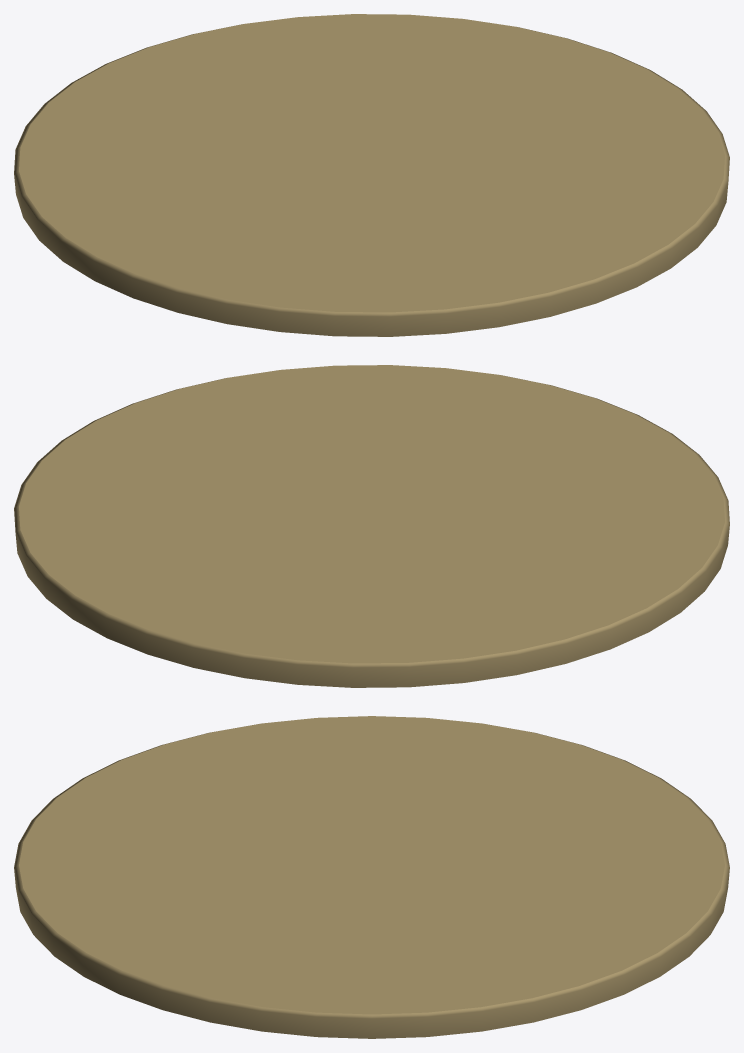
Rendered from G_Metal_07.fbx.
The picture shows the model from 3 angles, top to bottom: view 1: azimuth 30°, elevation 25°; view 2: azimuth 150°, elevation 25°; view 3: azimuth 270°, elevation 25°; orthographic projection.
Parts seen in each view (by area): view 1: G_Metal_07; view 2: G_Metal_07; view 3: G_Metal_07.
Boxes of the visible parts, x1,y1,x2,y2 form: G_Metal_07: (14, 14, 729, 336); G_Metal_07: (14, 365, 729, 687); G_Metal_07: (14, 716, 729, 1038).
Bounding box in the file's own units: 23.47 × 0.8396 × 23.47.
